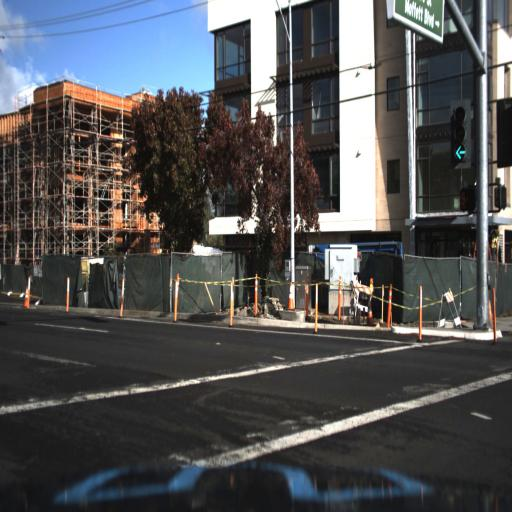trafficLight-Green: (449, 98, 473, 170)
